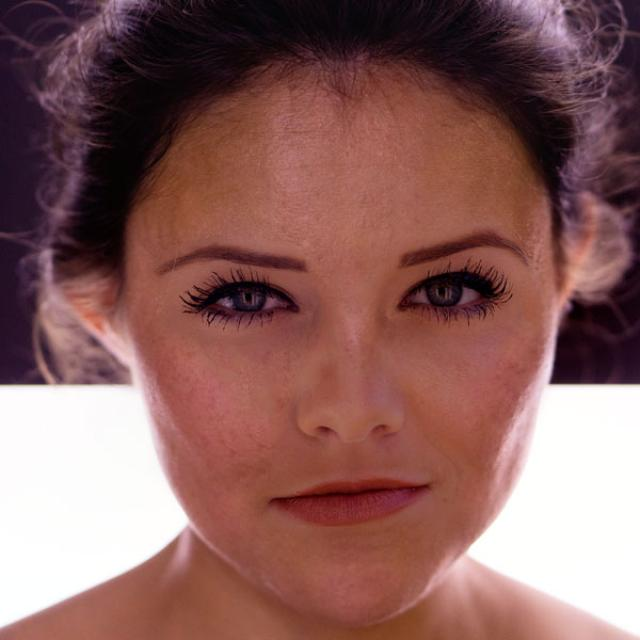face: (37, 1, 619, 626)
